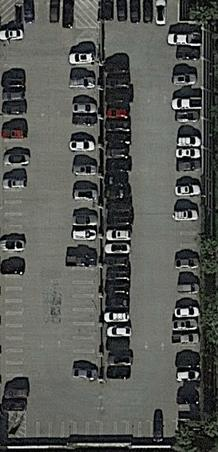parkingspot: (173, 22, 203, 421), (70, 26, 100, 383), (0, 28, 27, 413), (102, 64, 131, 383), (23, 421, 178, 445), (97, 0, 180, 24), (21, 0, 75, 26)
